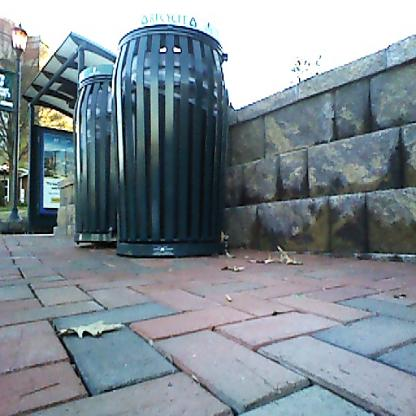Edge: (51, 211, 416, 290)
Sidewalk: (0, 235, 416, 416)
